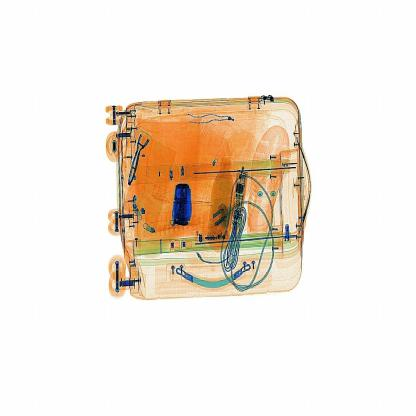scissors: (162, 175, 194, 238)
